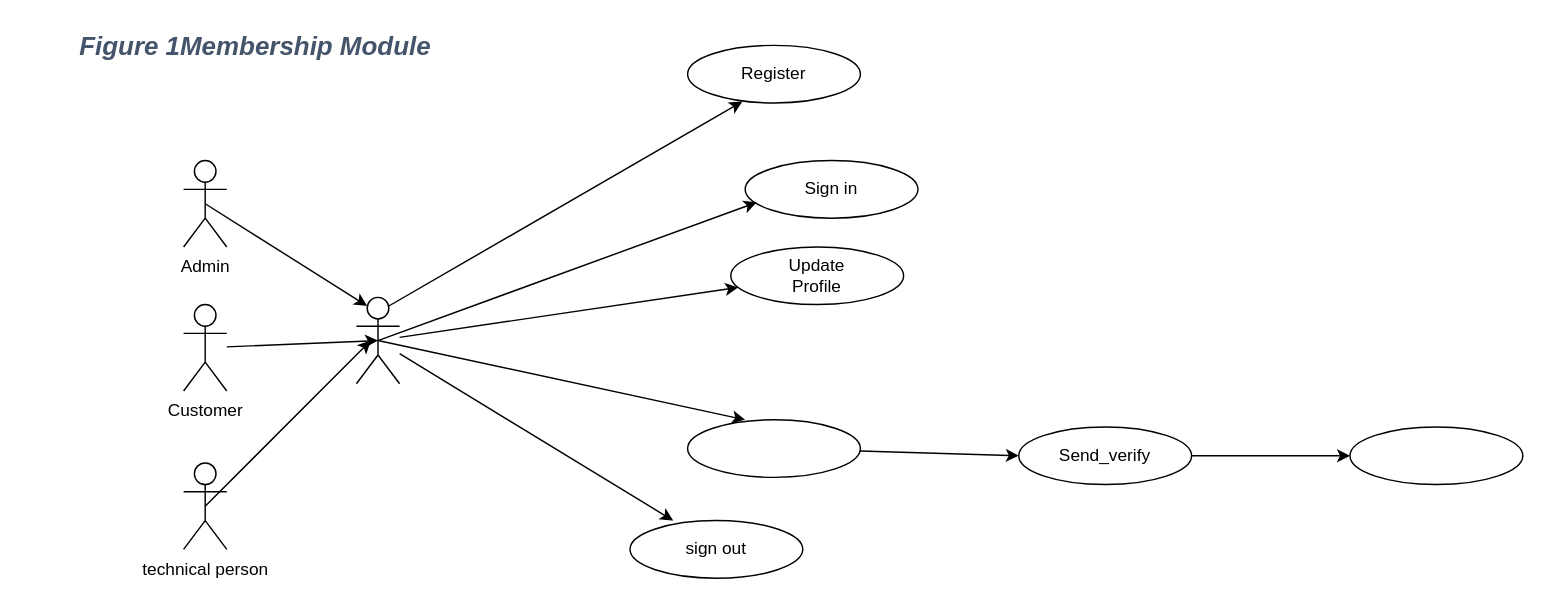
The diagram is 1548 pixels wide and 605 high, and some of its shapes have lost their labels. The centre of each missing label's shape, as x and y in pixels:
Add otp: pixel 1436 455
Reset Password: pixel 773 447
User: pixel 377 340
